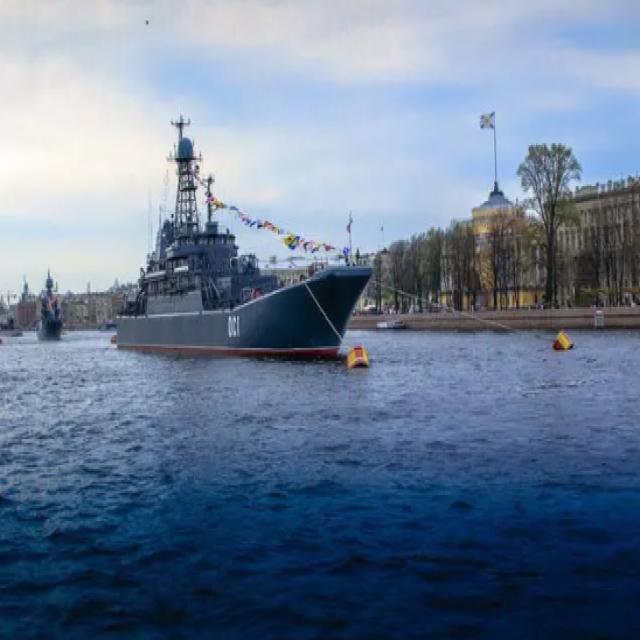navalvessels: (112, 107, 385, 361), (36, 258, 68, 334)
